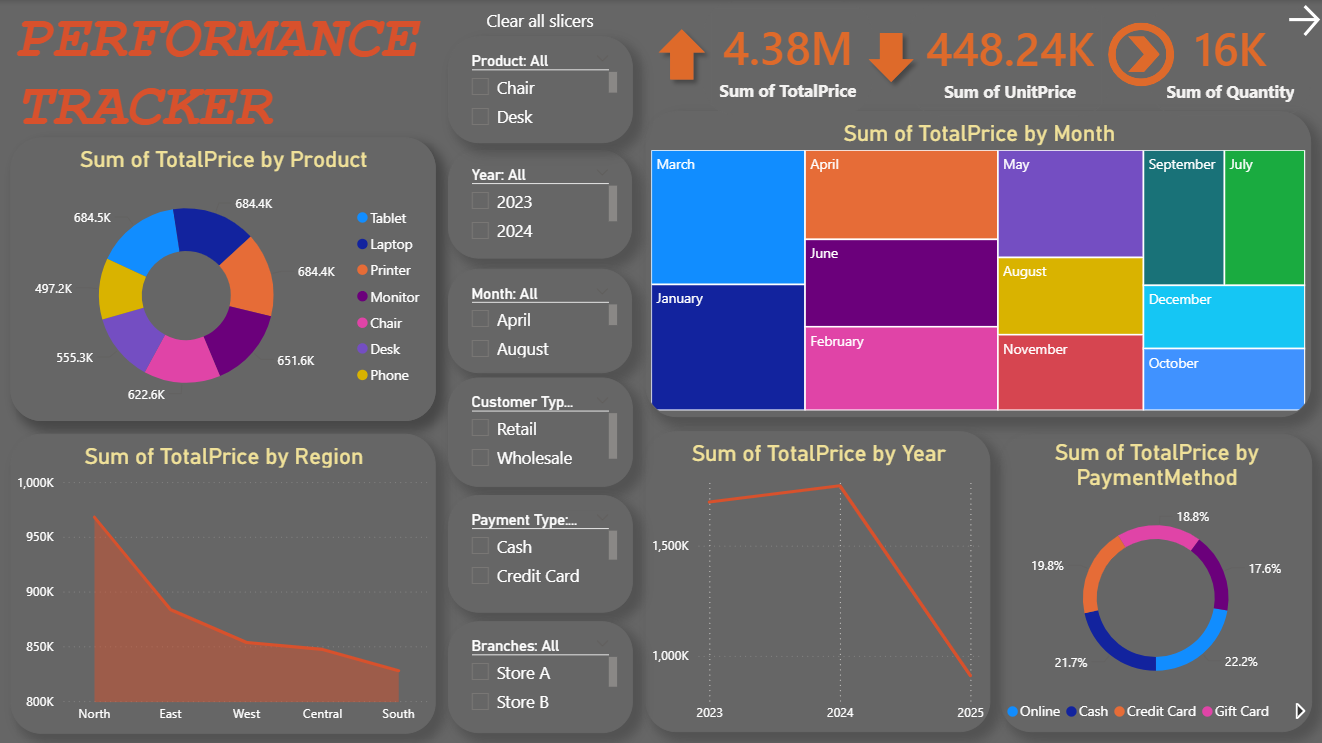

This screenshot's page, from the dashboard's own definition file:
{"tool":"powerbi","page":{"name":"Page 1","canvas":[1280,720],"ordinal":0},"visuals":[{"type":"textbox","box":[12.1,0,454.8,143.6],"z":0},{"type":"cardVisual","fields":{"Data":["Sum(Sheet1.Quantity)"]},"box":[1110.9,2.6,155.7,109.5],"z":0,"group":"g1"},{"type":"cardVisual","fields":{"Data":["Sum(Sheet1.TotalPrice)"]},"box":[679.8,1,162.9,109.8],"z":1000,"group":"g1"},{"type":"donutChart","fields":{"Category":["Sheet1.PaymentMethod"],"Y":["Sum(Sheet1.TotalPrice)"]},"box":[967.6,418.6,300.4,288.3],"z":1000},{"type":"shape","box":[1071.2,21.5,64,61.7],"z":2000,"group":"g3"},{"type":"treemap","fields":{"Group":["Sheet1.Month"],"Values":["Sum(Sheet1.TotalPrice)"]},"box":[624.7,107.1,642.8,295],"z":2000},{"type":"cardVisual","fields":{"Data":["Sum(Sheet1.UnitPrice)"]},"box":[878.9,2.2,193,109.8],"z":3000,"group":"g1"},{"type":"shape","box":[1078.6,28.9,49.2,46.9],"z":3000,"group":"g3"},{"type":"donutChart","fields":{"Category":["Sheet1.Product"],"Y":["Sum(Sheet1.TotalPrice)"]},"box":[12.1,132.7,410.2,273.9],"z":3000},{"type":"stackedAreaChart","fields":{"Category":["Sheet1.Region"],"Y":["Sum(Sheet1.TotalPrice)"]},"box":[12.5,418.8,410.4,289.4],"z":4000},{"type":"lineChart","title":"Sum of TotalPrice by Year","fields":{"Category":["Sheet1.Year"],"Y":["Sum(Sheet1.TotalPrice)"]},"box":[624.9,416.2,333,290.8],"z":5000},{"type":"group","id":"g1","title":"Group 3","box":[628.4,1,638.2,111],"z":6000},{"type":"shape","box":[1090.3,34.6,30.7,34.6],"z":6000,"group":"g3"},{"type":"group","id":"g2","title":"Group 2","box":[434.4,35,178.2,672.3],"z":7000},{"type":"actionButton","box":[423.9,2.8,199.3,33.7],"z":8000},{"type":"shape","box":[628.4,19.3,62.7,66.4],"z":8000,"group":"g1"},{"type":"slicer","fields":{"Values":["Sheet1.Year"]},"box":[434.4,145.2,177.9,104.6],"z":8000,"group":"g2"},{"type":"slicer","fields":{"Values":["Sheet1.Month"]},"box":[434.4,259.4,177.9,100.5],"z":9000,"group":"g2"},{"type":"actionButton","box":[1240.2,0,39.8,39.8],"z":9500},{"type":"shape","box":[831.1,22.7,61.5,65.1],"z":10000,"group":"g1"},{"type":"slicer","fields":{"Values":["Sheet1.Product"]},"box":[434.5,35,178.1,103.2],"z":12000,"group":"g2"},{"type":"slicer","fields":{"Values":["Sheet1.CustomerType"]},"box":[434.4,364,178.2,105.3],"z":14000,"group":"g2"},{"type":"group","id":"g3","title":"Group 1","box":[1071.2,21.5,64,61.7],"z":14001,"group":"g1"},{"type":"slicer","fields":{"Values":["Sheet1.PaymentMethod"]},"box":[434.4,477.7,178.2,113.6],"z":15000,"group":"g2"},{"type":"slicer","fields":{"Values":["Sheet1.StoreLocation"]},"box":[434.4,599.2,178.1,108],"z":16000,"group":"g2"}]}

Visuals, with their boxes in screenshot pixels (x1, y1, x2, y2), scaled from the page's 1280x720 canvas onto the 1322x743 screenshot:
textbox: Rect(12, 0, 482, 148)
cardVisual - Sum(Sheet1.Quantity): Rect(1147, 3, 1308, 116)
cardVisual - Sum(Sheet1.TotalPrice): Rect(702, 1, 870, 114)
donutChart - Sheet1.PaymentMethod x Sum(Sheet1.TotalPrice): Rect(999, 432, 1310, 729)
shape: Rect(1106, 22, 1172, 86)
treemap - Sheet1.Month x Sum(Sheet1.TotalPrice): Rect(645, 111, 1309, 415)
cardVisual - Sum(Sheet1.UnitPrice): Rect(908, 2, 1107, 116)
shape: Rect(1114, 30, 1165, 78)
donutChart - Sheet1.Product x Sum(Sheet1.TotalPrice): Rect(12, 137, 436, 420)
stackedAreaChart - Sheet1.Region x Sum(Sheet1.TotalPrice): Rect(13, 432, 437, 731)
"Sum of TotalPrice by Year" lineChart: Rect(645, 429, 989, 730)
"Group 3" group: Rect(649, 1, 1308, 116)
shape: Rect(1126, 36, 1158, 71)
"Group 2" group: Rect(449, 36, 633, 730)
actionButton: Rect(438, 3, 644, 38)
shape: Rect(649, 20, 714, 88)
slicer - Sheet1.Year: Rect(449, 150, 632, 258)
slicer - Sheet1.Month: Rect(449, 268, 632, 371)
actionButton: Rect(1281, 0, 1321, 41)
shape: Rect(858, 23, 922, 91)
slicer - Sheet1.Product: Rect(449, 36, 633, 143)
slicer - Sheet1.CustomerType: Rect(449, 376, 633, 484)
"Group 1" group: Rect(1106, 22, 1172, 86)
slicer - Sheet1.PaymentMethod: Rect(449, 493, 633, 610)
slicer - Sheet1.StoreLocation: Rect(449, 618, 633, 730)
